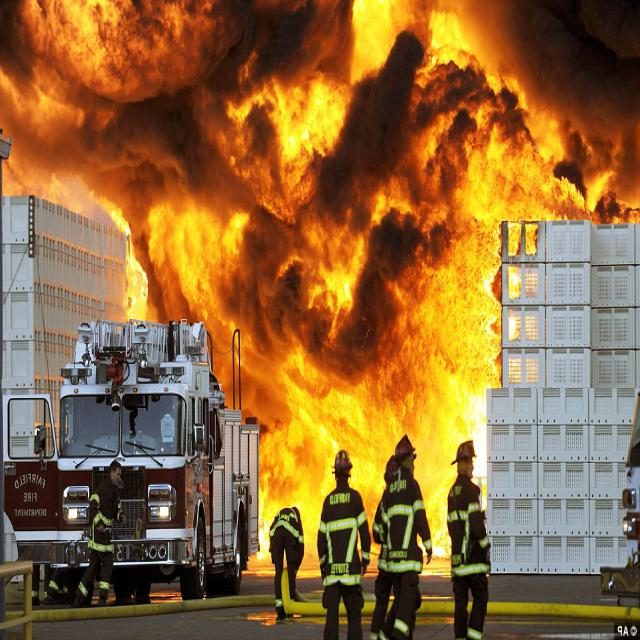fire: (3, 1, 640, 554)
